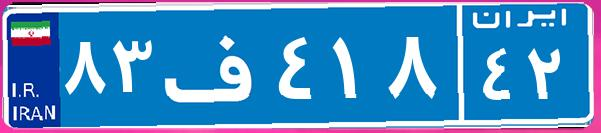1: (330, 28, 385, 110)
2: (525, 38, 570, 115)
3: (110, 28, 158, 105)
4: (273, 28, 330, 110), (475, 38, 525, 113)
8: (385, 28, 445, 110), (57, 26, 110, 107)
ف: (158, 15, 273, 115)
